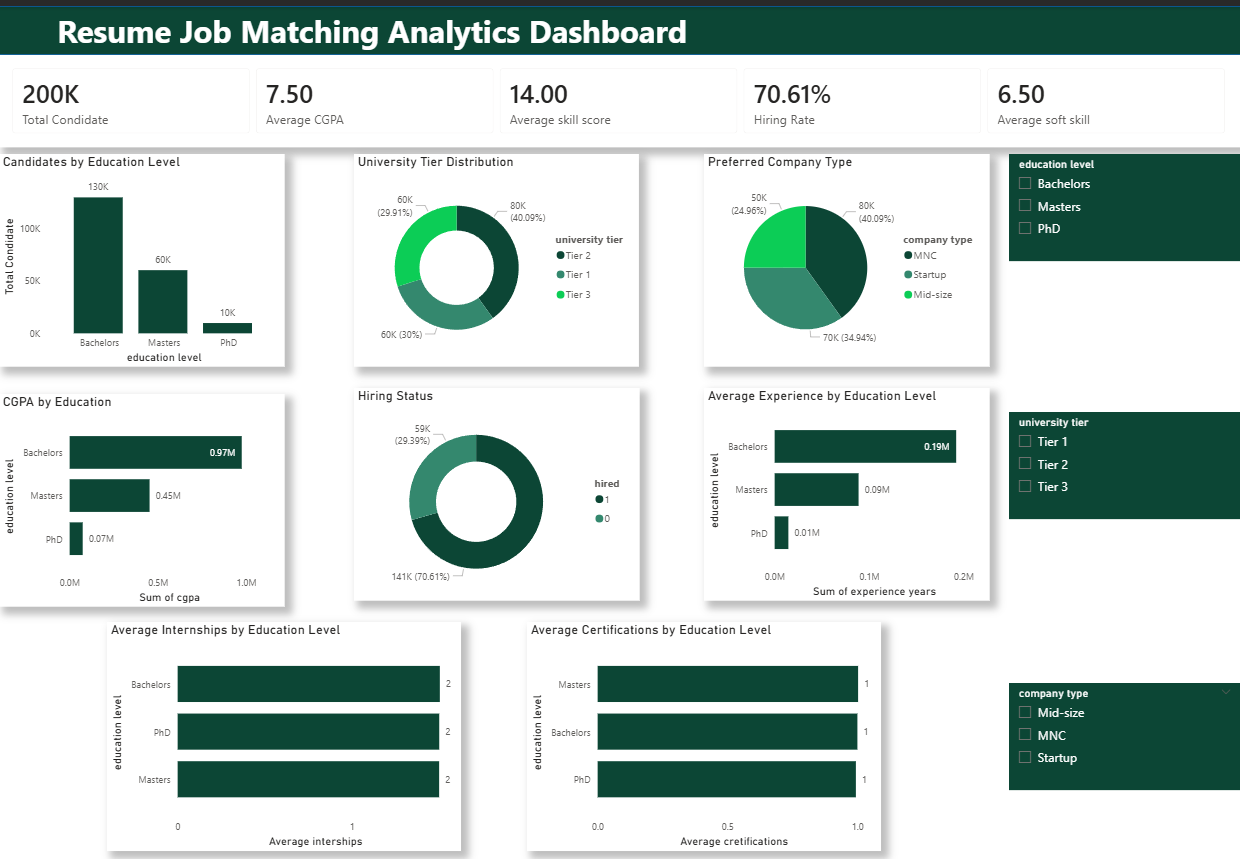

This screenshot's page, from the dashboard's own definition file:
{"tool":"powerbi","page":{"name":"Page 1","canvas":[1600,1100],"ordinal":0},"visuals":[{"type":"shape","box":[0,0,1599.8,63.1],"z":0},{"type":"cardVisual","fields":{"Data":["resume dataset.Total Condidate","resume dataset.Average CGPA","resume dataset.Average skill score","resume dataset.Hiring Rate","resume dataset.average soft skill"]},"box":[0,63.1,1599.8,118.5],"z":1000},{"type":"columnChart","title":"Candidates by Education Level","fields":{"Y":["resume dataset.Total Condidate"],"Category":["resume dataset.education level"]},"box":[0,190.9,367.7,274],"z":2000},{"type":"donutChart","title":"University Tier Distribution","fields":{"Y":["resume dataset.Total Condidate"],"Category":["resume dataset.university tier"]},"box":[456.7,190.9,366.5,274],"z":2001},{"type":"pieChart","title":"Preferred Company Type","fields":{"Y":["resume dataset.Total Condidate"],"Category":["resume dataset.company type"]},"box":[907.5,190.9,367.7,274],"z":2002},{"type":"clusteredBarChart","title":"CGPA by Education","fields":{"Category":["resume dataset.education level"],"Y":["Sum(resume dataset.cgpa)"]},"box":[0,500,367.7,274],"z":2003},{"type":"donutChart","title":"Hiring Status","fields":{"Y":["resume dataset.Total Condidate"],"Category":["resume dataset.hired"]},"box":[456.7,491.8,367.7,274],"z":2004},{"type":"clusteredBarChart","title":"Average Experience by Education Level","fields":{"Category":["resume dataset.education level"],"Y":["Sum(resume dataset.experience years)"]},"box":[907.5,491.8,367.7,274],"z":2005},{"type":"clusteredBarChart","title":"Average Internships by Education Level","fields":{"Category":["resume dataset.education level"],"Y":["resume dataset.Average interships"]},"box":[139.1,793.4,456,295],"z":2006},{"type":"clusteredBarChart","title":"Average Certifications by Education Level","fields":{"Category":["resume dataset.education level"],"Y":["resume dataset.Average cretifications"]},"box":[680.1,793.4,456,295],"z":2007},{"type":"slicer","fields":{"Values":["resume dataset.education level"]},"box":[1300.9,190.6,298.8,137.8],"z":2008},{"type":"slicer","fields":{"Values":["resume dataset.university tier"]},"box":[1300.9,523,298.8,137.8],"z":2009},{"type":"slicer","fields":{"Values":["resume dataset.company type"]},"box":[1300.9,872,298.8,137.8],"z":2010}]}

Visuals, with their boxes in screenshot pixels (x1, y1, x2, y2), scaled from the page's 1600x1100 canvas onto the 1240x859 screenshot:
shape: (0,0,1239,49)
cardVisual - resume dataset.Total Condidate x resume dataset.Average CGPA: (0,49,1239,142)
"Candidates by Education Level" columnChart: (0,149,285,363)
"University Tier Distribution" donutChart: (354,149,638,363)
"Preferred Company Type" pieChart: (703,149,988,363)
"CGPA by Education" clusteredBarChart: (0,390,285,604)
"Hiring Status" donutChart: (354,384,639,598)
"Average Experience by Education Level" clusteredBarChart: (703,384,988,598)
"Average Internships by Education Level" clusteredBarChart: (108,620,461,850)
"Average Certifications by Education Level" clusteredBarChart: (527,620,880,850)
slicer - resume dataset.education level: (1008,149,1239,256)
slicer - resume dataset.university tier: (1008,408,1239,516)
slicer - resume dataset.company type: (1008,681,1239,789)
